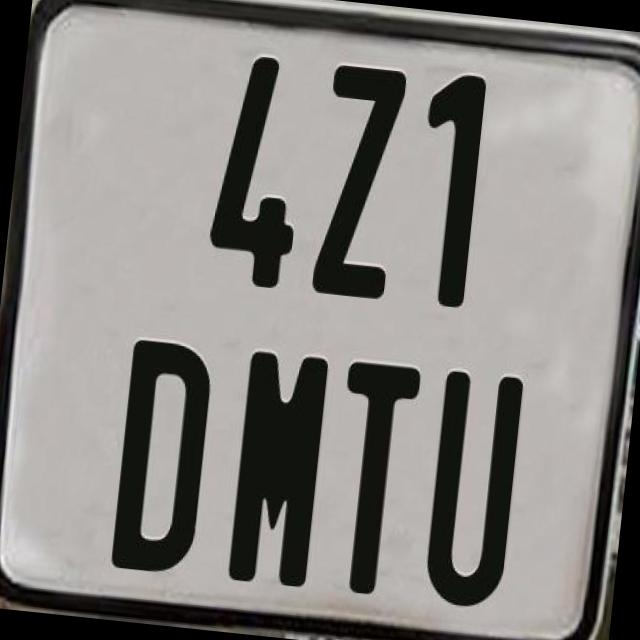1: (405, 71, 484, 308)
4: (203, 52, 311, 294)
D: (106, 336, 210, 574)
M: (226, 346, 333, 594)
T: (323, 360, 428, 600)
U: (421, 367, 525, 616)
Z: (310, 59, 406, 297)
